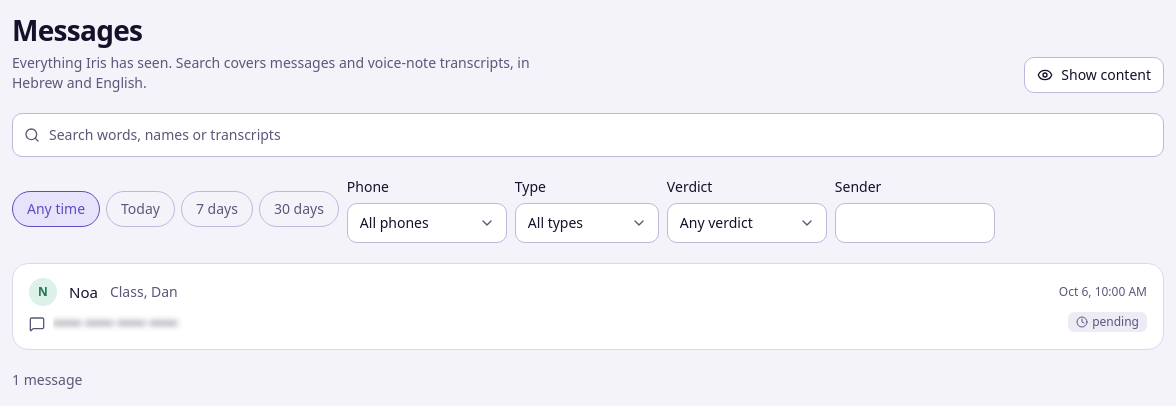
Test case: renders messages with a highlighted snippet and kid names
The width and height of the screenshot is (1176, 406).
Expected: the text "Noa" is shown, [69, 281, 98, 304]
Expected: the text "שלום" is not shown
Click the button "Show content" at (1094, 75), box [1024, 57, 1164, 93]
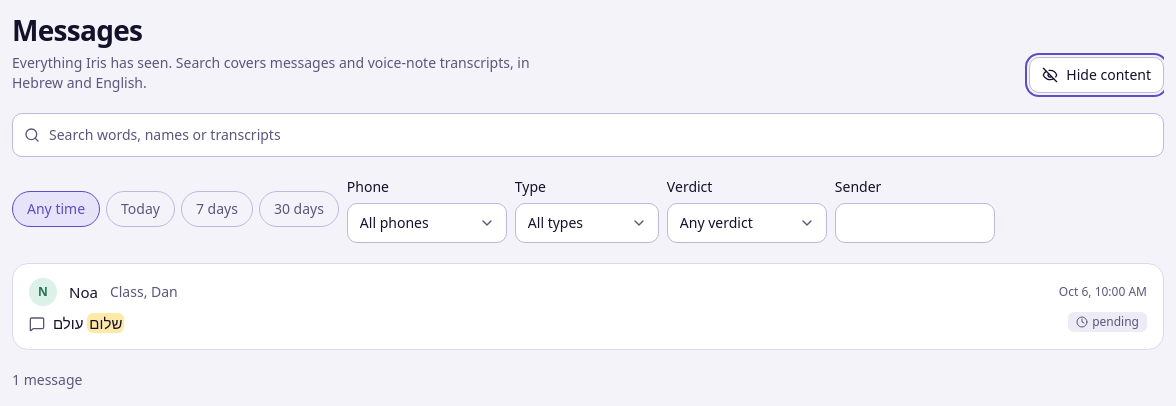
Expected: the button "Hide content" is shown
Click the button "Hide content" at (1097, 75), box [1029, 57, 1164, 93]
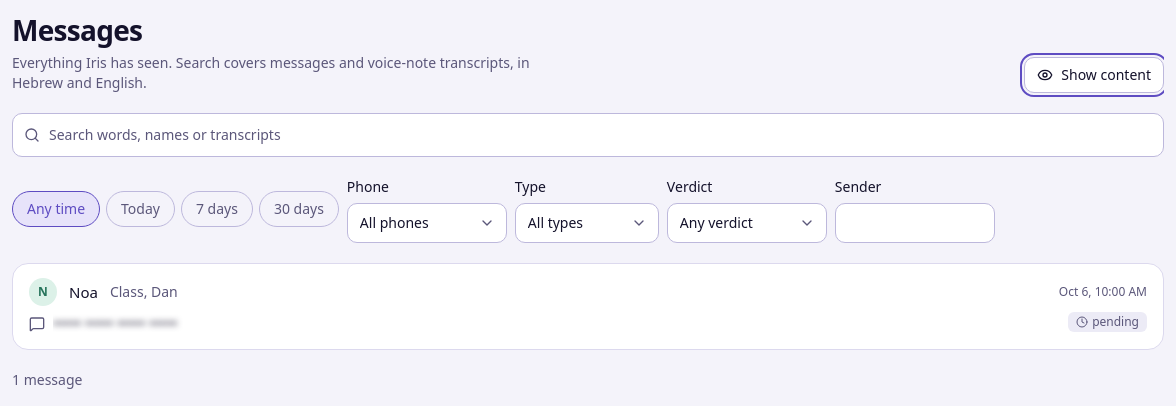
Expected: the text "שלום" is gone
